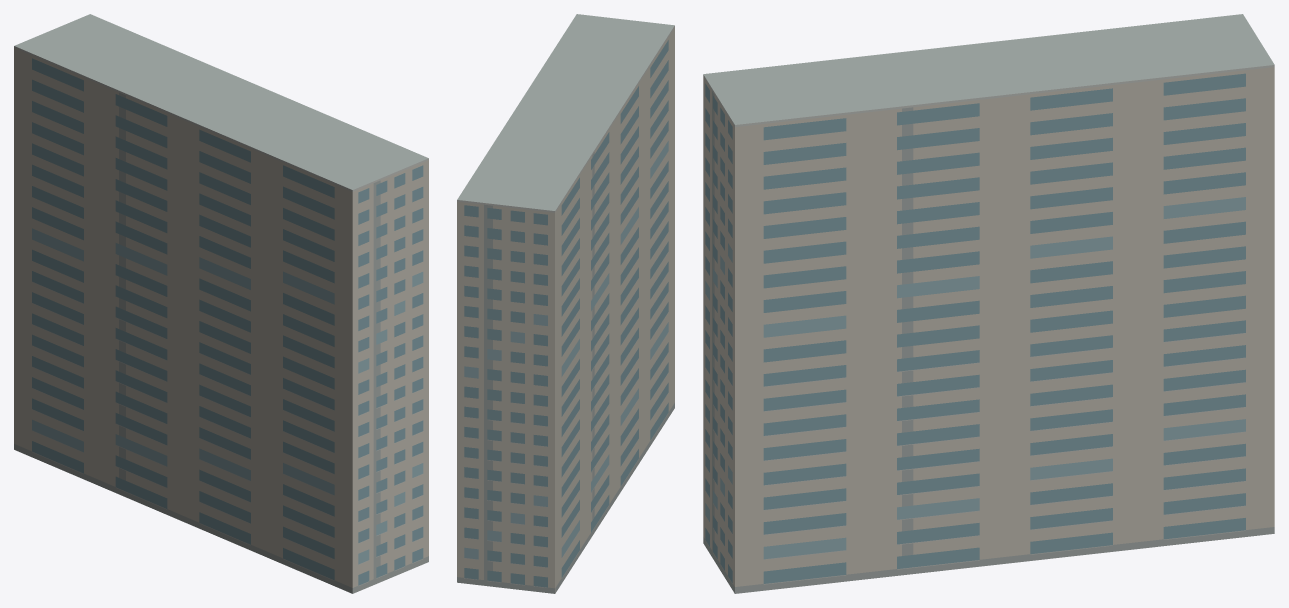
Rendered from residential-b01ad76a-ce15-48c2-844e-24b3b4c1dfcc.glb.
3 views of the same model, side by side, from view 1: azimuth 30°, elevation 25°; view 2: azimuth 150°, elevation 25°; view 3: azimuth 270°, elevation 25° (orthographic). The views are drawn at different scales.
Parts seen in each view (by area): view 1: residential-b01ad76a-ce15-48c2-844e-24b3b4c1dfcc.tmp; view 2: residential-b01ad76a-ce15-48c2-844e-24b3b4c1dfcc.tmp; view 3: residential-b01ad76a-ce15-48c2-844e-24b3b4c1dfcc.tmp.
Part boxes in pixels (x1,y1,x2,y2): residential-b01ad76a-ce15-48c2-844e-24b3b4c1dfcc.tmp: (14, 14, 428, 593); residential-b01ad76a-ce15-48c2-844e-24b3b4c1dfcc.tmp: (457, 14, 674, 593); residential-b01ad76a-ce15-48c2-844e-24b3b4c1dfcc.tmp: (703, 14, 1274, 593).
Bounding box in the file's own units: 26.93 × 53 × 58.55.
